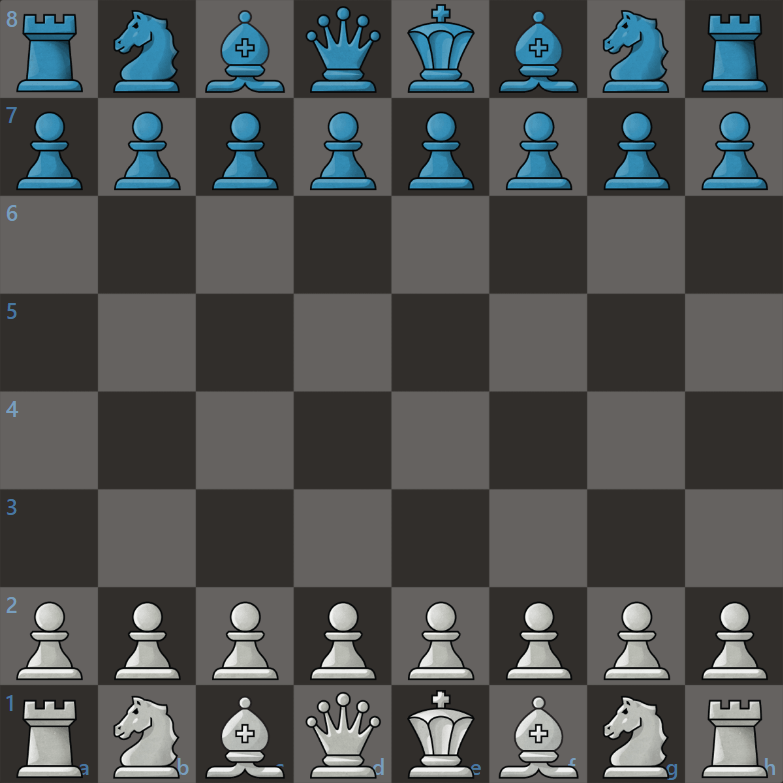B: (497, 692, 581, 781), (203, 694, 287, 781)
K: (405, 687, 478, 781)
N: (601, 693, 673, 781), (110, 694, 182, 781)
P: (12, 599, 86, 683), (108, 598, 182, 682), (207, 599, 281, 683), (305, 599, 379, 683), (403, 598, 477, 682), (502, 599, 576, 683), (600, 599, 674, 683), (696, 598, 770, 682)
Q: (303, 690, 381, 782)
R: (700, 696, 771, 781), (15, 697, 85, 781)
b: (202, 6, 287, 96), (497, 4, 582, 94)
k: (405, 2, 480, 96)
n: (111, 8, 183, 96), (600, 7, 672, 95)
p: (15, 109, 85, 193), (111, 109, 181, 193), (210, 108, 280, 192), (308, 109, 378, 193), (405, 109, 475, 193), (503, 109, 573, 193), (602, 109, 672, 193), (699, 109, 769, 193)
q: (302, 5, 384, 94)
r: (15, 11, 85, 96), (699, 10, 769, 95)
